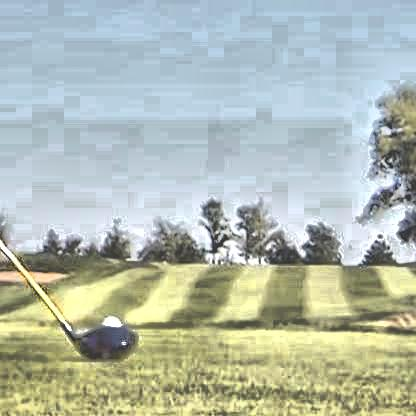golfball: (98, 315, 123, 339)
